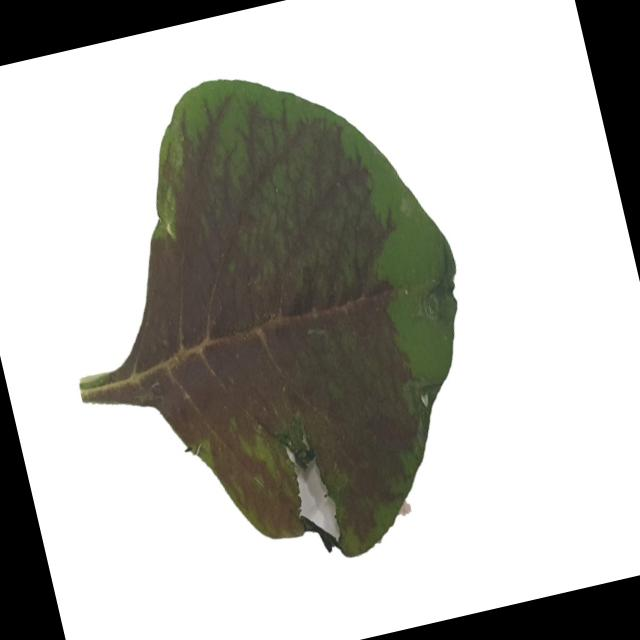Medicinal-Arive Dantu: (18, 37, 515, 604)
